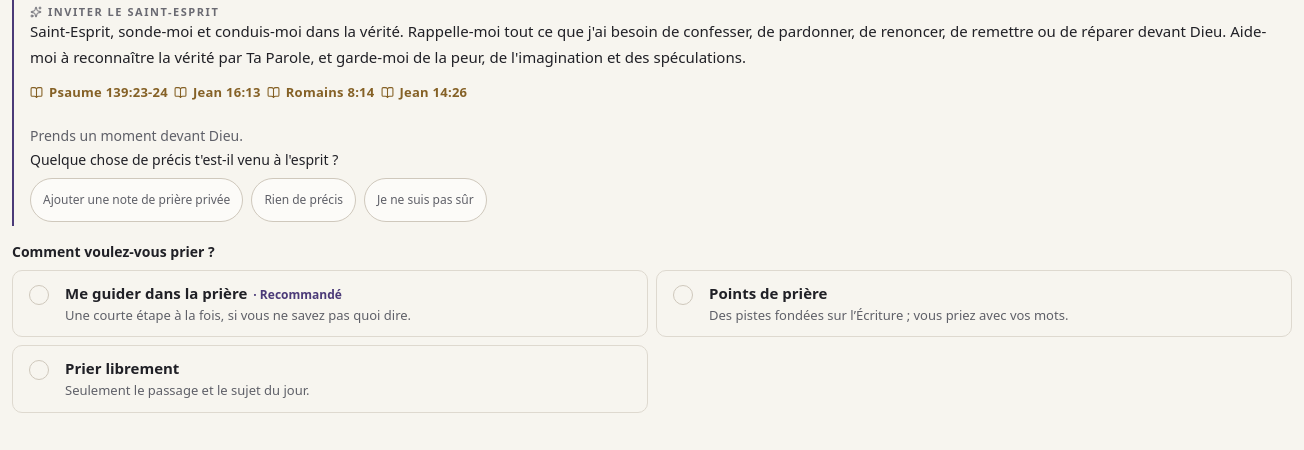
Scenario: the Holy Spirit invitation › hands "add a private prayer note" to the existing note composer
Click the button "Ajouter une note de prière privée" at (137, 200), box [30,178,243,222]
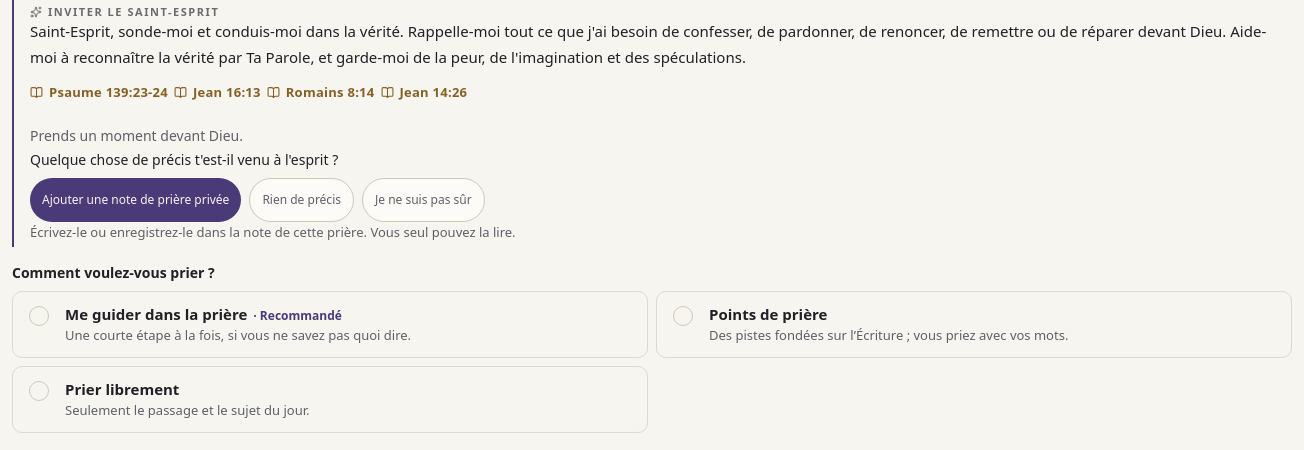
expect the text "Écrivez-le ou enregistrez-le dans la note de cette prière. Vous seul pouvez la lire." is shown: met, box [30,223,516,241]
